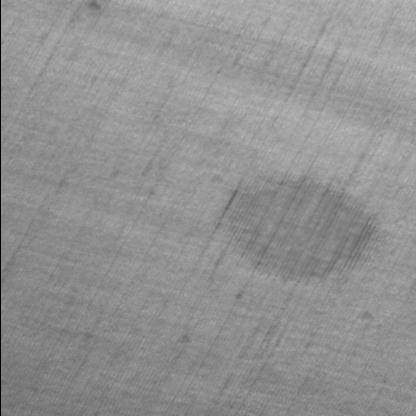oil spot: (224, 176, 382, 280)
